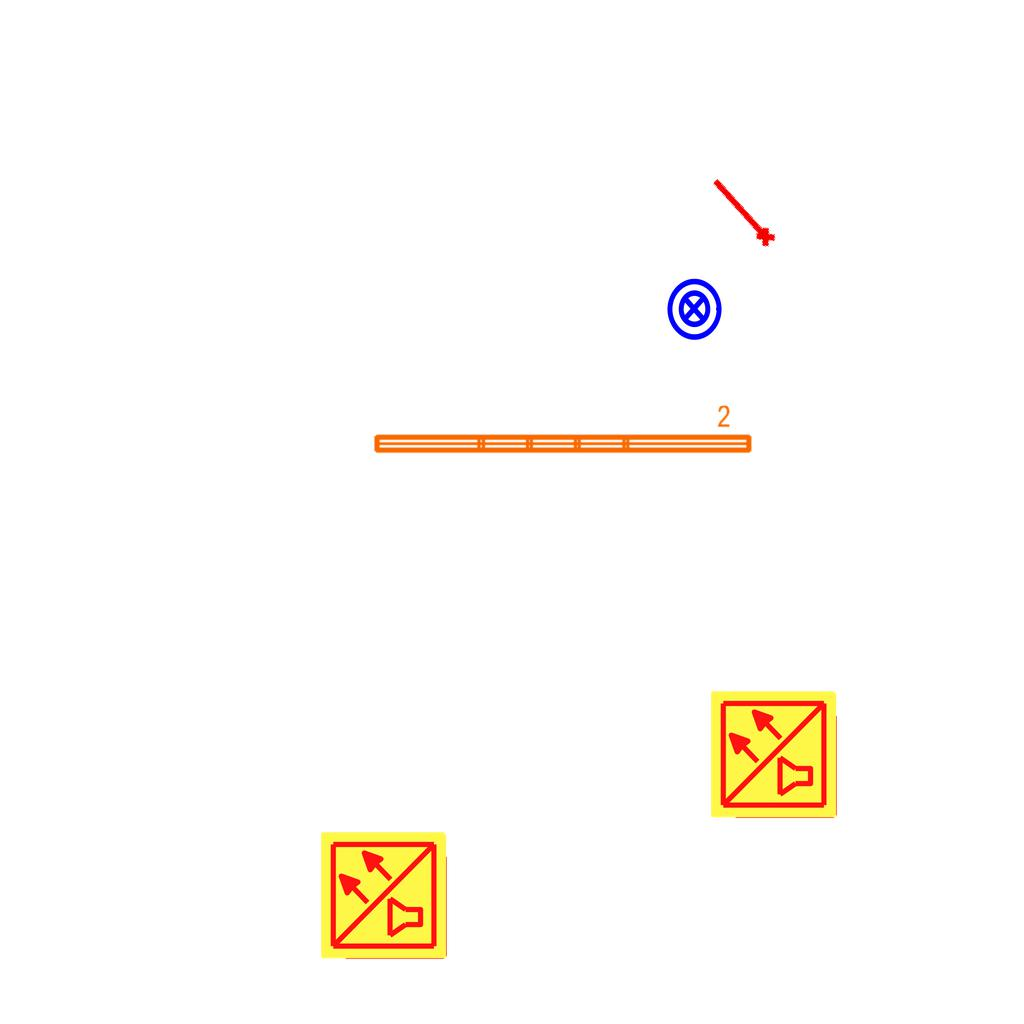ASR_Ansaugoeffnung: (704, 172, 780, 253)
Ambulanz_Pendelleuchte_LED: (369, 403, 756, 459)
OKW_Multisensormelder_(Kombination_optischer_Rauch-Kahlenmonoxid_Waerme-Melder): (708, 688, 840, 820), (318, 829, 450, 961)
Taster_beleuchtet: (661, 276, 727, 342)
